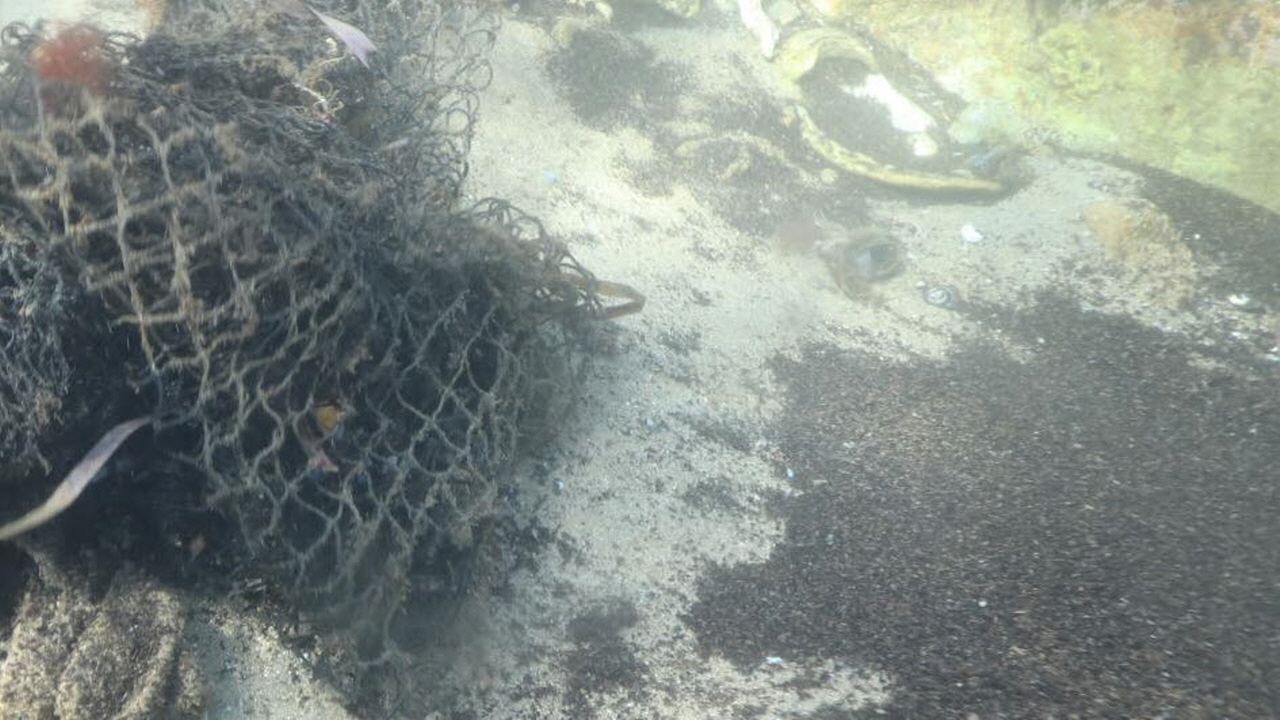fish net: (0, 0, 605, 667)
